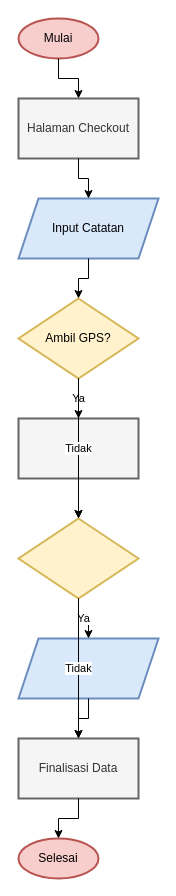
Image size: 176x896. Some labels were removed from this diagram. Each missing label, with the box of its shape:
Input Manual: (17, 637, 159, 699)
Populate Lat/Lng: (17, 417, 139, 479)
Ubah Alamat?: (17, 517, 139, 599)
